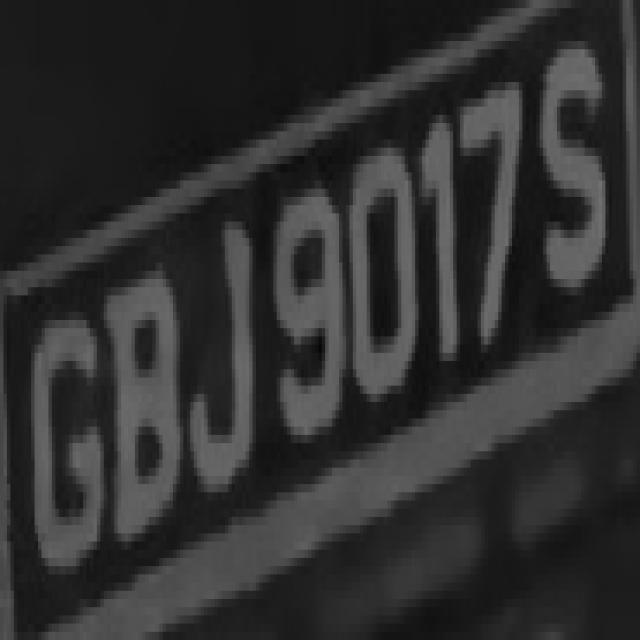0: (336, 131, 415, 435)
1: (415, 66, 464, 402)
7: (446, 74, 530, 369)
9: (259, 172, 346, 460)
B: (104, 238, 190, 583)
G: (24, 287, 107, 607)
J: (173, 172, 256, 525)
S: (536, 16, 612, 353)
